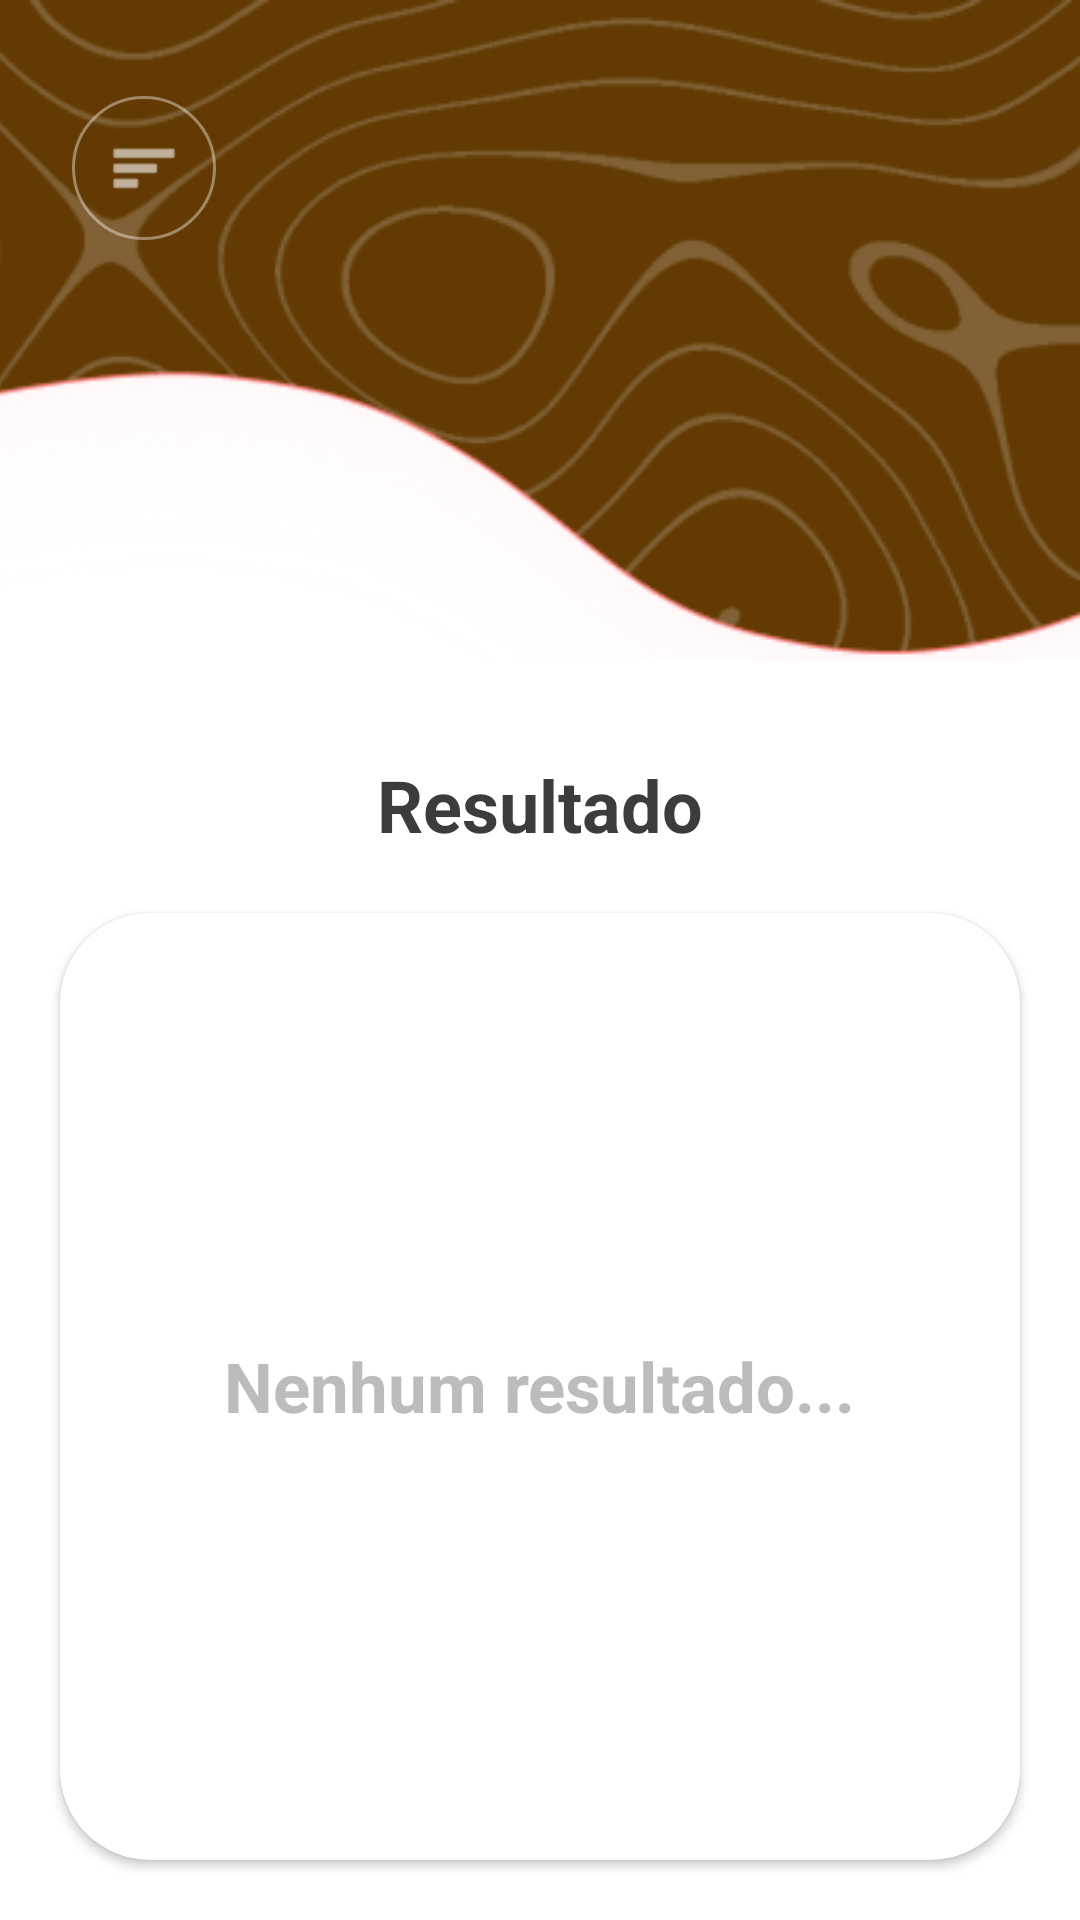

Named icons in this screenshot (1080×1920) and their centers, point (x, y):
sort by size: point (144, 168)
